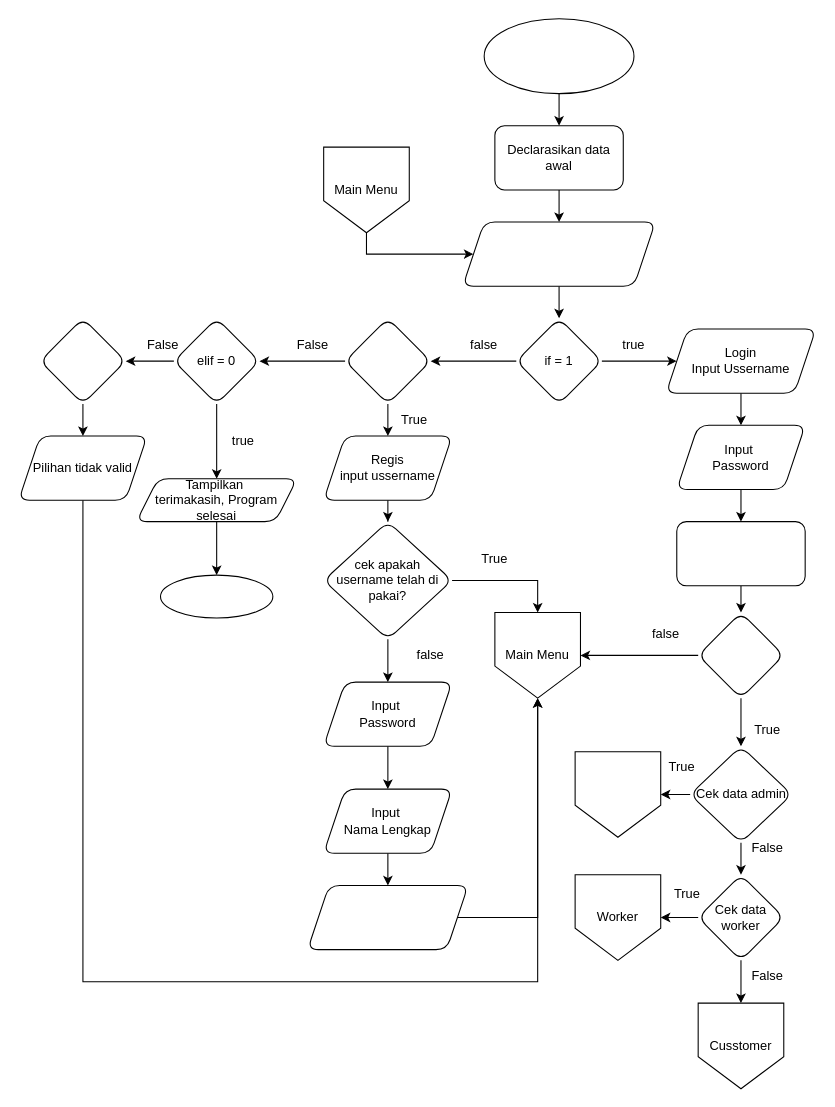
The diagram is 835 pixels wide and 1107 high, and some of its shapes have lost their labels. The shapes that lost their labels are listed below. From the top down, each one's centre as x and y in pixels, then its label:
At point 558,56: "mulai".
At point 558,253: "Tampilkan Menu Utama 1. Login, 2. Regis, 3 Logout".
At point 82,360: "Else".
At point 387,360: "elif = 2".
At point 740,553: "Cek akun pw dan username".
At point 216,596: "Selesai".
At point 740,655: "data cocok?".
At point 617,794: "Admin".
At point 387,917: "Tampilkan Pendaftaran behasil".
